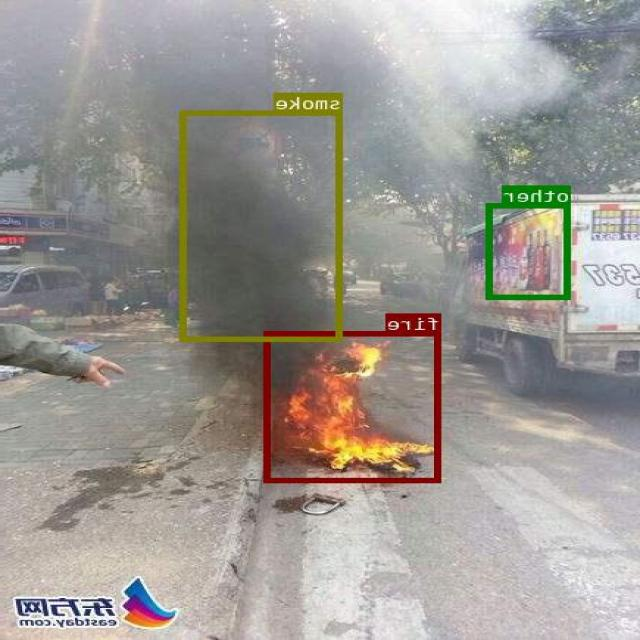fire: (266, 330, 442, 481)
other: (488, 202, 572, 299)
smoke: (181, 110, 344, 340)
